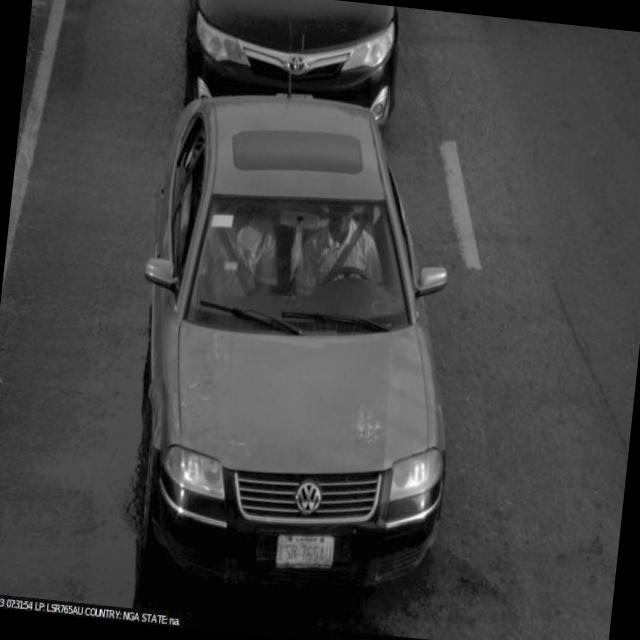person_with_seatbelt: (296, 191, 393, 316)
